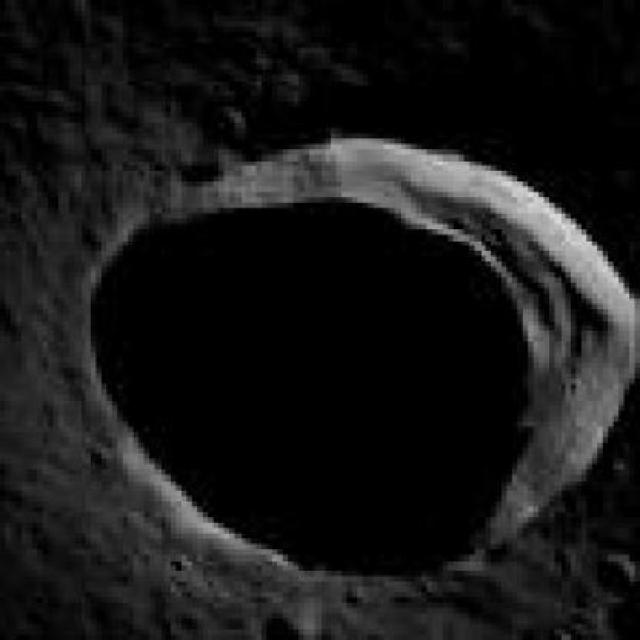crater: (87, 140, 638, 578)
